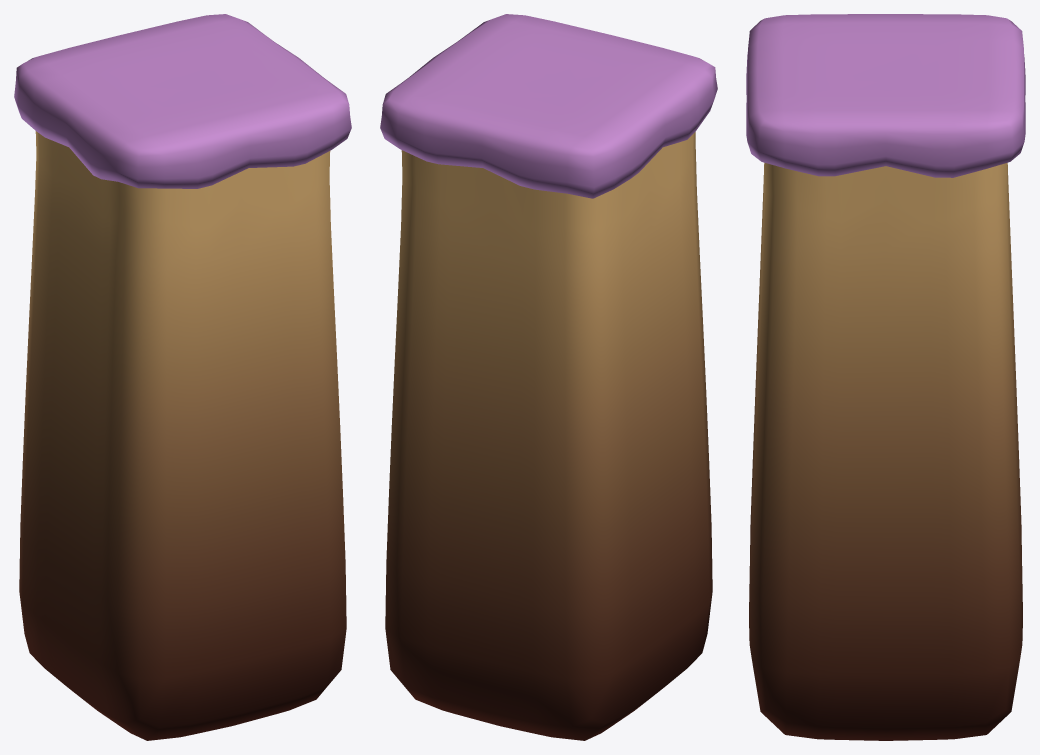
The model's file is TileCandy_5m.fbx.
3 views of the same model, side by side, from view 1: azimuth 30°, elevation 25°; view 2: azimuth 150°, elevation 25°; view 3: azimuth 270°, elevation 25° (orthographic). The views are drawn at different scales.
Visible parts, largest first — view 1: TileCandy_5m; view 2: TileCandy_5m; view 3: TileCandy_5m.
Part boxes in pixels (box(x1,y1,x2,y2)): TileCandy_5m: box(14, 14, 351, 740); TileCandy_5m: box(380, 14, 717, 740); TileCandy_5m: box(746, 14, 1025, 740).
Bounding box in the file's own units: 2 × 5 × 2.
